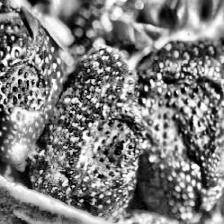Anthracnose Fruit Rot: (142, 73, 224, 172), (78, 112, 147, 190), (0, 55, 52, 116)
